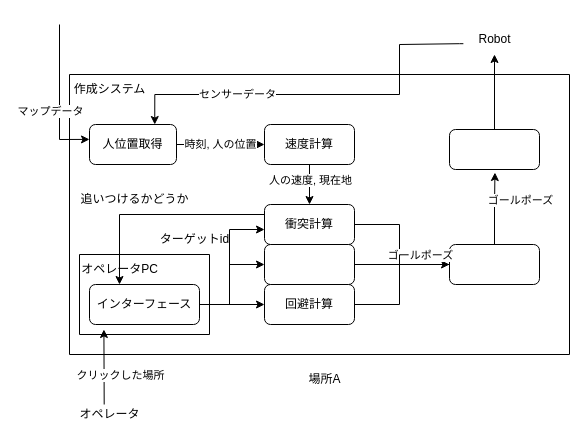
This 587x447 diagram has some shape labels left out. The shapes that lost their labels are listed below. From the top down, each one's centre as x and y in pixels, then its label:
At pixel 494 149: "移動方法計算".
At pixel 309 264: "追従計算".
At pixel 494 264: "セレクター".
